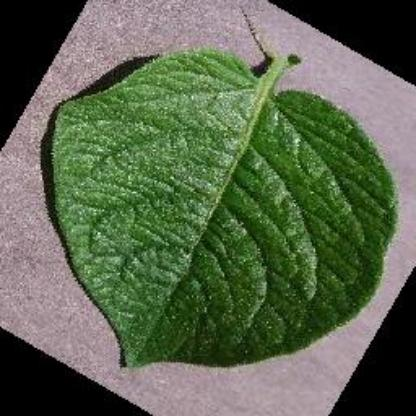Healthy-plant: (22, 13, 408, 385)
